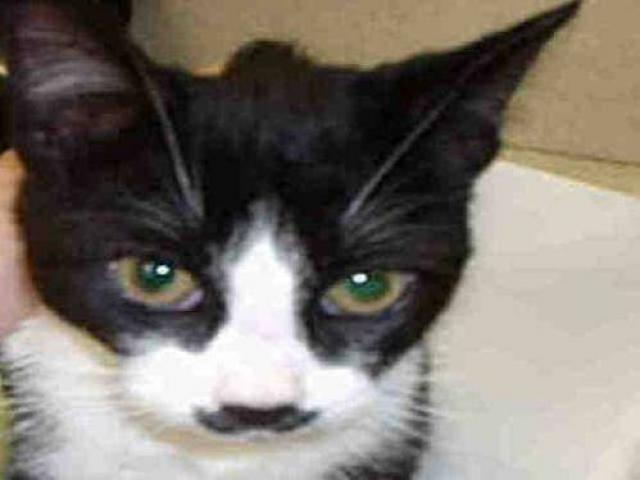cat: (2, 1, 592, 480)
